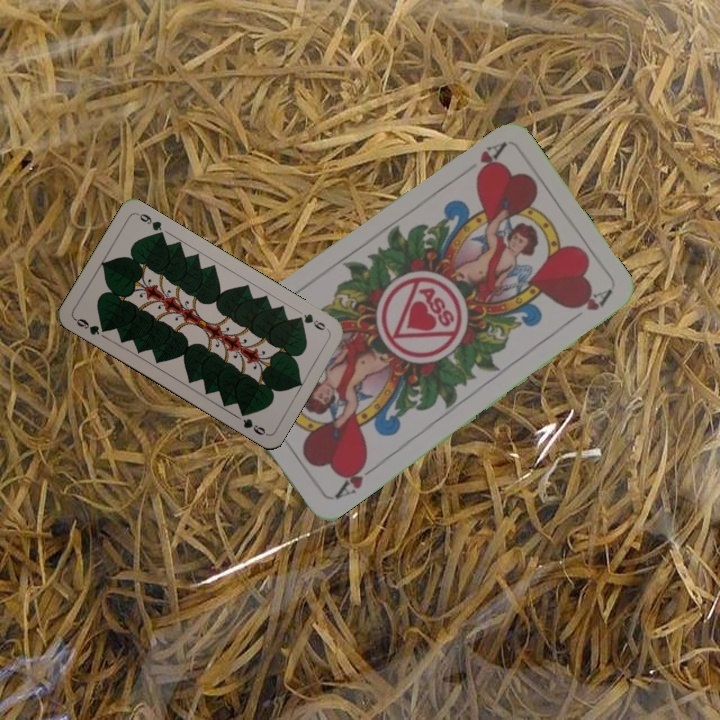G9: (70, 314, 110, 338), (292, 310, 331, 334)
HA: (330, 455, 379, 502), (471, 138, 508, 183)
